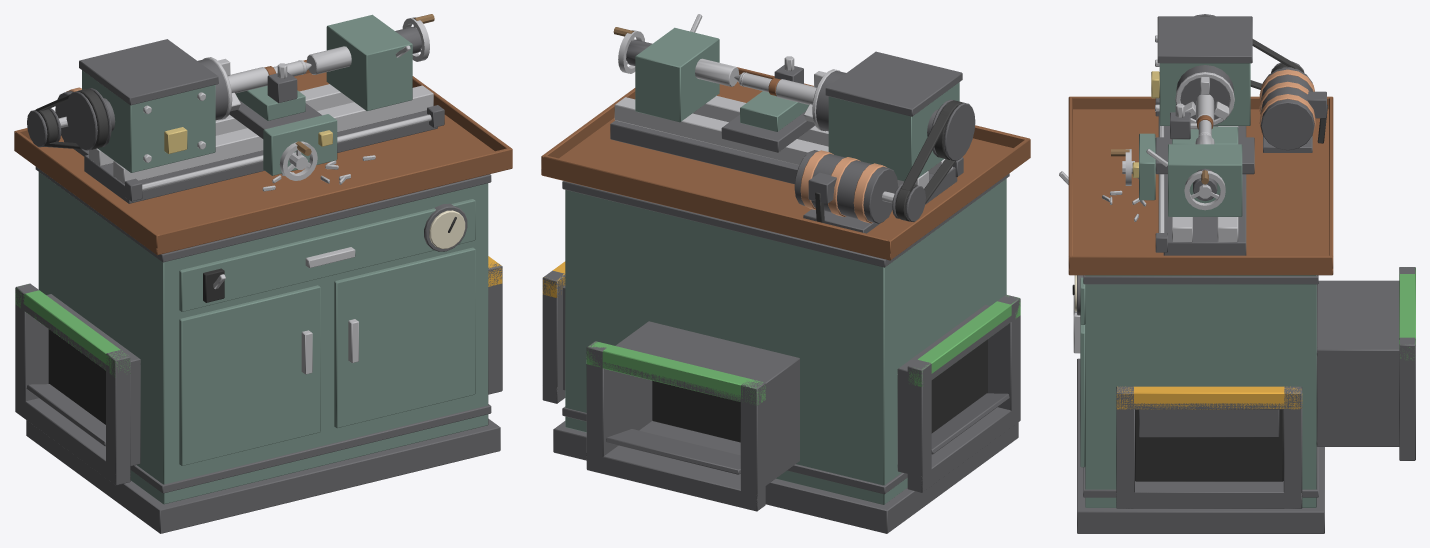
The model's file is feLathe.fbx.
3 renders of one model, left to right at view 1: azimuth 30°, elevation 25°; view 2: azimuth 150°, elevation 25°; view 3: azimuth 270°, elevation 25°, orthographic. The views are drawn at different scales.
Visible parts, largest first — view 1: feLathe_Base, feLathe_Carriage, feLathe_Spindle, feLathe_CarriageWheel, feLathe_MotorPulley, feLathe_TailWheel; view 2: feLathe_Base, feLathe_Carriage, feLathe_Spindle, feLathe_MotorPulley, feLathe_TailWheel; view 3: feLathe_Base, feLathe_Carriage, feLathe_Spindle, feLathe_TailWheel, feLathe_CarriageWheel.
Boxes of the visible parts, x1,y1,x2,y2 form: feLathe_Base: [14, 14, 512, 533]; feLathe_Carriage: [229, 63, 337, 175]; feLathe_Spindle: [66, 57, 306, 150]; feLathe_CarriageWheel: [279, 141, 317, 180]; feLathe_MotorPulley: [27, 108, 68, 147]; feLathe_TailWheel: [402, 14, 434, 61]; feLathe_Base: [541, 14, 1030, 533]; feLathe_Carriage: [721, 56, 814, 152]; feLathe_Spindle: [739, 69, 975, 160]; feLathe_MotorPulley: [882, 182, 925, 221]; feLathe_TailWheel: [613, 27, 644, 73]; feLathe_Base: [1059, 15, 1415, 533]; feLathe_Carriage: [1132, 103, 1254, 200]; feLathe_Spindle: [1175, 14, 1234, 136]; feLathe_TailWheel: [1184, 170, 1225, 210]; feLathe_CarriageWheel: [1111, 149, 1134, 185].
Size of the model in its own units: 1 by 0.99 by 0.8632.
